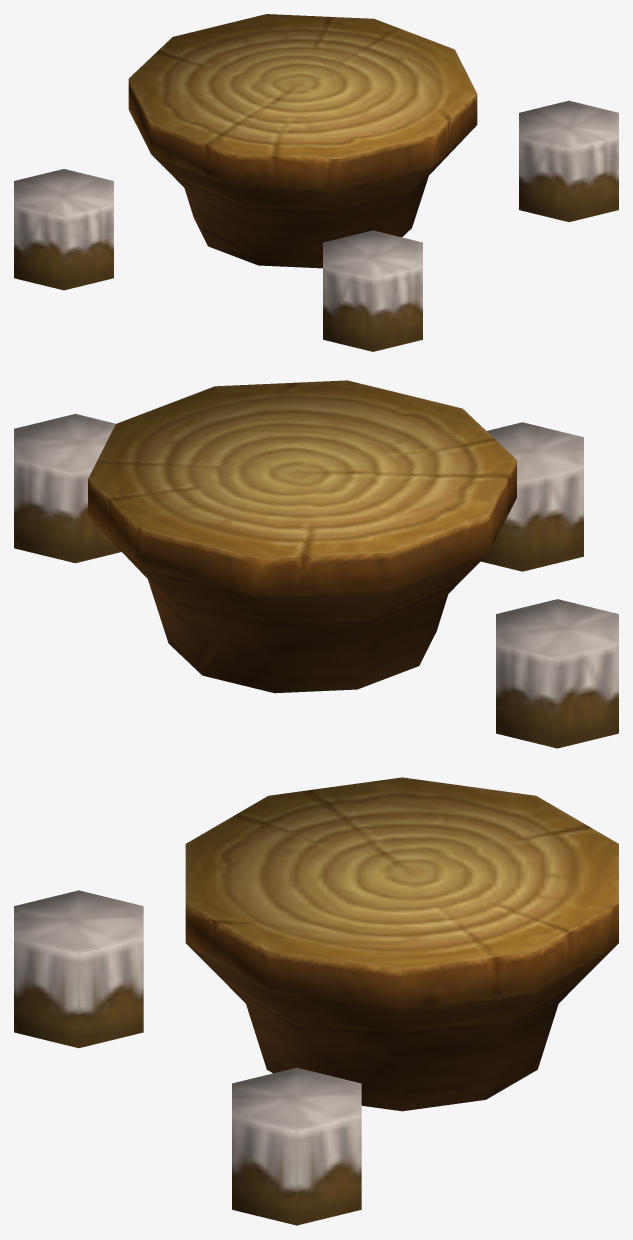
File: Stage_ZhuCheng_MuZhuo.FBX
3 views of the same model, one above another, from view 1: azimuth 30°, elevation 25°; view 2: azimuth 150°, elevation 25°; view 3: azimuth 270°, elevation 25° (orthographic). The views are drawn at different scales.
Parts seen in each view (by area): view 1: Stage_ZhuCheng_MuZhuo; view 2: Stage_ZhuCheng_MuZhuo; view 3: Stage_ZhuCheng_MuZhuo.
Part boxes in pixels (left/top/right/bottom): Stage_ZhuCheng_MuZhuo: left=14, top=14, right=618, bottom=351; Stage_ZhuCheng_MuZhuo: left=14, top=380, right=618, bottom=748; Stage_ZhuCheng_MuZhuo: left=14, top=777, right=618, bottom=1225.
Size of the model in its own units: 95.26 by 22.68 by 70.06.
